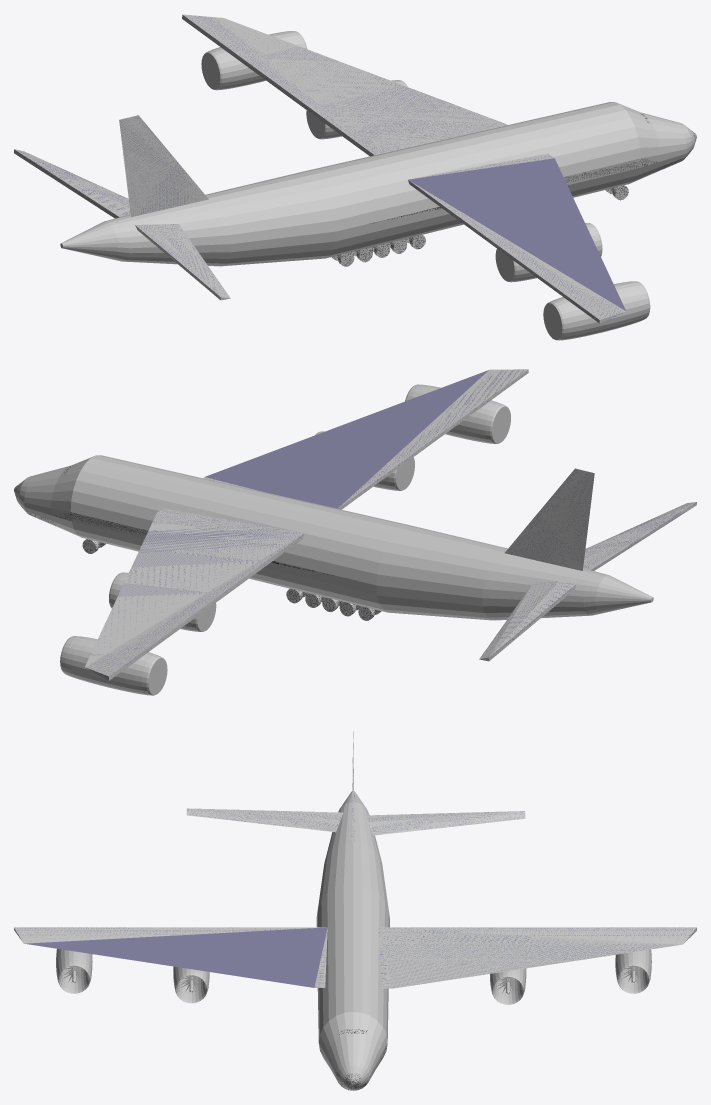
3 renders of one model, top to bottom at view 1: azimuth 30°, elevation 25°; view 2: azimuth 150°, elevation 25°; view 3: azimuth 270°, elevation 25°, orthographic. The views are drawn at different scales.
Visible parts, largest first — view 1: mesh15_mesh15-geometry, mesh1.003_mesh1-geometry, mesh1.002_mesh1-geometry, mesh1.004_mesh1-geometry, mesh1.001_mesh1-geometry; view 2: mesh15_mesh15-geometry, mesh1.002_mesh1-geometry, mesh1.003_mesh1-geometry, mesh1.001_mesh1-geometry, mesh1.004_mesh1-geometry; view 3: mesh15_mesh15-geometry, mesh1.003_mesh1-geometry, mesh1.002_mesh1-geometry, mesh1.004_mesh1-geometry, mesh1.001_mesh1-geometry.
Part boxes in pixels (x1,y1,x2,y2): mesh15_mesh15-geometry: (14,14,696,323); mesh1.003_mesh1-geometry: (543,281,650,340); mesh1.002_mesh1-geometry: (201,31,307,90); mesh1.004_mesh1-geometry: (495,223,602,282); mesh1.001_mesh1-geometry: (306,80,407,139); mesh15_mesh15-geometry: (14,369,696,680); mesh1.002_mesh1-geometry: (60,636,167,695); mesh1.003_mesh1-geometry: (405,384,510,443); mesh1.001_mesh1-geometry: (109,572,216,631); mesh1.004_mesh1-geometry: (315,431,414,490); mesh15_mesh15-geometry: (14,731,696,1090); mesh1.003_mesh1-geometry: (56,948,92,993); mesh1.002_mesh1-geometry: (615,949,651,993); mesh1.004_mesh1-geometry: (173,966,209,1003); mesh1.001_mesh1-geometry: (490,968,526,1004).
Size of the model in its own units: 0.6469 by 0.1926 by 0.7379.
